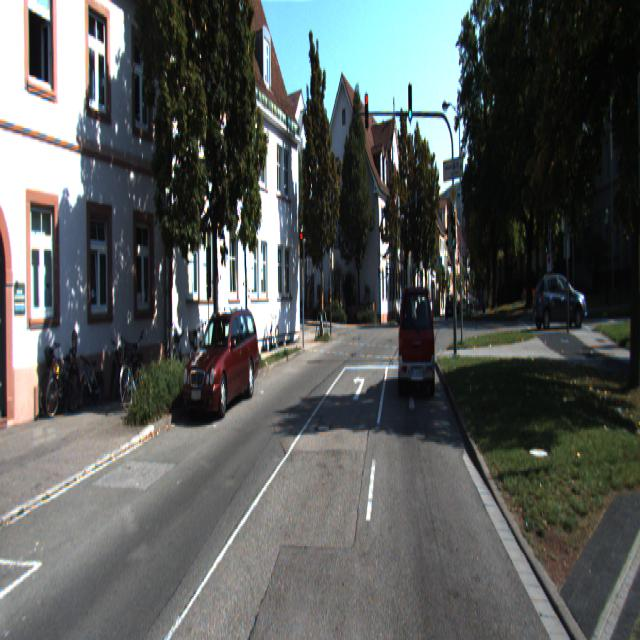Car: (181, 310, 260, 422), (397, 286, 436, 397), (532, 271, 586, 330)
